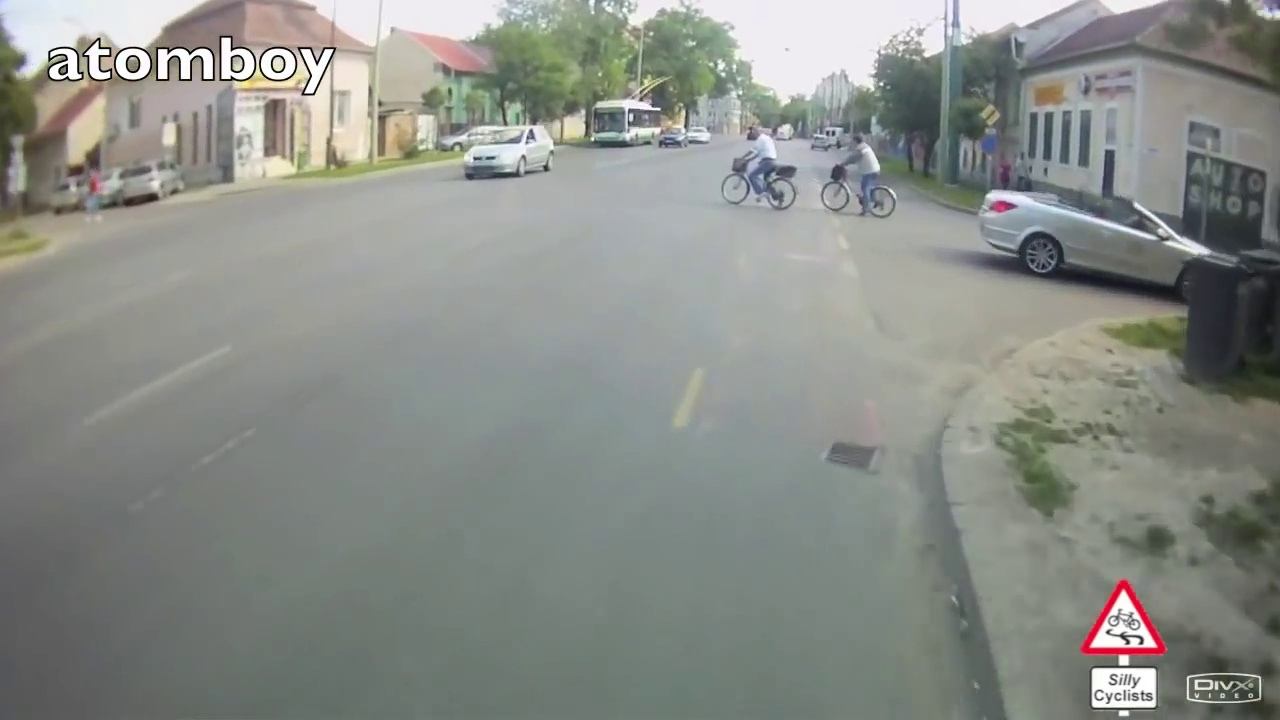cyclist_side: (820, 130, 899, 218), (723, 126, 797, 211)
